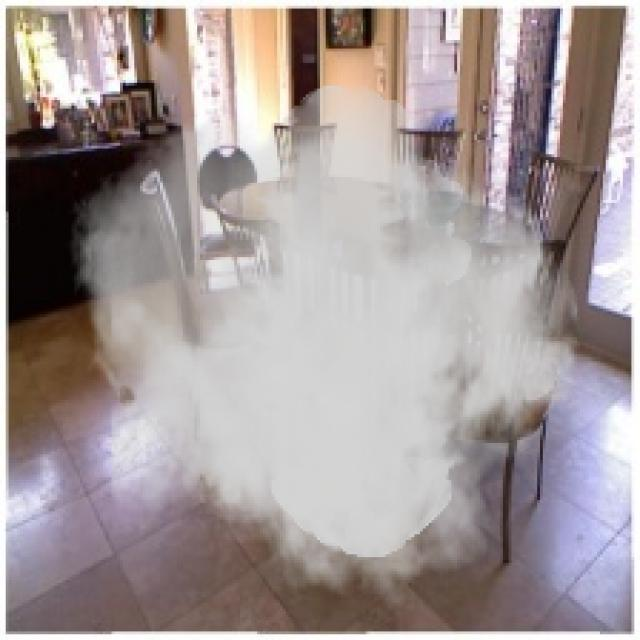smoke: (65, 83, 586, 611)
